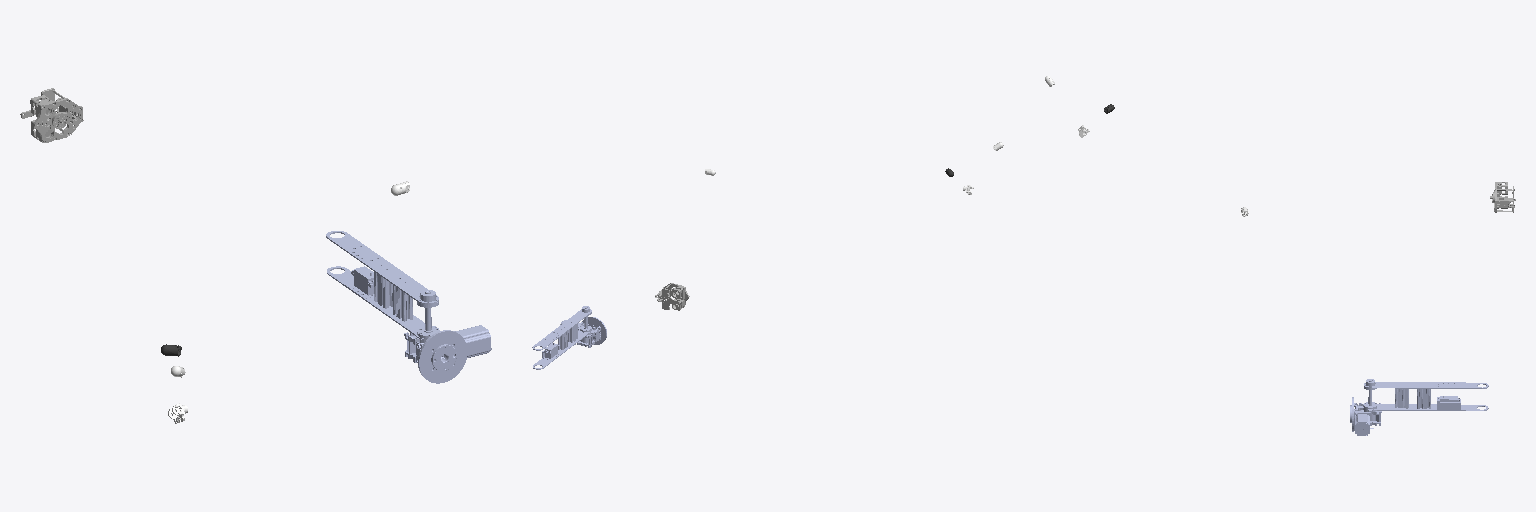
robot.urdf — full_assembly2_urdf:
<?xml version="1.0" encoding="utf-8"?>
<!-- This URDF was automatically created by SolidWorks to URDF Exporter! Originally created by Stephen Brawner (brawner@gmail.com) 
     Commit Version: 1.6.0-4-g7f85cfe  Build Version: 1.6.7995.38578
     For more information, please see http://wiki.ros.org/sw_urdf_exporter -->
<robot
  name="full_assembly2_urdf">
  <link
    name="base_link">
    <inertial>
      <origin
        xyz="-0.000666971271272493 -7.2955508087523E-05 0.113905308565321"
        rpy="0 0 0" />
      <mass
        value="1.2708035851133" />
      <inertia
        ixx="0.00258373325569534"
        ixy="-1.24891825111482E-07"
        ixz="-3.29247641974665E-07"
        iyy="0.00258737827661269"
        iyz="-4.10689595731847E-08"
        izz="0.00432432859906659" />
    </inertial>
    <visual>
      <origin
        xyz="0 0 0"
        rpy="0 0 0" />
      <geometry>
        <mesh
          filename="package://full_assembly2_urdf/meshes/base_link.STL" />
      </geometry>
      <material
        name="">
        <color
          rgba="0.752941176470588 0.752941176470588 0.752941176470588 1" />
      </material>
    </visual>
    <collision>
      <origin
        xyz="0 0 0"
        rpy="0 0 0" />
      <geometry>
        <mesh
          filename="package://full_assembly2_urdf/meshes/base_link.STL" />
      </geometry>
    </collision>
  </link>
  <link
    name="link_1">
    <inertial>
      <origin
        xyz="0.034888834415896 0.00457926103273412 0.0467069176822638"
        rpy="0 0 0" />
      <mass
        value="0.641883793391617" />
      <inertia
        ixx="0.0004655414421358"
        ixy="-2.03341730697784E-05"
        ixz="2.92581409367882E-05"
        iyy="0.000626367305091345"
        iyz="3.98087884992213E-06"
        izz="0.000617296717752839" />
    </inertial>
    <visual>
      <origin
        xyz="0 0 0"
        rpy="0 0 0" />
      <geometry>
        <mesh
          filename="package://full_assembly2_urdf/meshes/link_1.STL" />
      </geometry>
      <material
        name="">
        <color
          rgba="0.792156862745098 0.819607843137255 0.933333333333333 1" />
      </material>
    </visual>
    <collision>
      <origin
        xyz="0 0 0"
        rpy="0 0 0" />
      <geometry>
        <mesh
          filename="package://full_assembly2_urdf/meshes/link_1.STL" />
      </geometry>
    </collision>
  </link>
  <joint
    name="joint_1"
    type="revolute">
    <origin
      xyz="0 0 0.15678"
      rpy="0 0 0" />
    <parent
      link="base_link" />
    <child
      link="link_1" />
    <axis
      xyz="0 0 1" />
    <limit
      lower="-3.142"
      upper="3.142"
      effort="28.35"
      velocity="5.24" />
  </joint>
  <link
    name="link_2">
    <inertial>
      <origin
        xyz="0.00118095219354461 0.00619627354362344 0.173905309750878"
        rpy="0 0 0" />
      <mass
        value="0.394669414155339" />
      <inertia
        ixx="0.00201544139316108"
        ixy="5.89754990715485E-06"
        ixz="-4.81654944922341E-07"
        iyy="0.00197252279377023"
        iyz="-1.04891927473111E-07"
        izz="0.000146840453333142" />
    </inertial>
    <visual>
      <origin
        xyz="0 0 0"
        rpy="0 0 0" />
      <geometry>
        <mesh
          filename="package://full_assembly2_urdf/meshes/link_2.STL" />
      </geometry>
      <material
        name="">
        <color
          rgba="0.792156862745098 0.819607843137255 0.933333333333333 1" />
      </material>
    </visual>
    <collision>
      <origin
        xyz="0 0 0"
        rpy="0 0 0" />
      <geometry>
        <mesh
          filename="package://full_assembly2_urdf/meshes/link_2.STL" />
      </geometry>
    </collision>
  </link>
  <joint
    name="joint_2"
    type="revolute">
    <origin
      xyz="0.000103583713295205 1.30918409286529E-05 0.0737000000000103"
      rpy="0 0 0" />
    <parent
      link="link_1" />
    <child
      link="link_2" />
    <axis
      xyz="-0.125391445630158 0.992107345685324 0" />
    <limit
      lower="-1.57"
      upper="1.57"
      effort="28.35"
      velocity="5.24" />
  </joint>
  <link
    name="link_3">
    <inertial>
      <origin
        xyz="-0.114597786368413 -0.0106809982255397 -0.000135698983013133"
        rpy="0 0 0" />
      <mass
        value="0.259256414102" />
      <inertia
        ixx="8.82055216027771E-05"
        ixy="-0.000147246406086501"
        ixz="1.9128799495539E-08"
        iyy="0.001234836324825"
        iyz="-5.7328438056428E-08"
        izz="0.00124877401988058" />
    </inertial>
    <visual>
      <origin
        xyz="0 0 0"
        rpy="0 0 0" />
      <geometry>
        <mesh
          filename="package://full_assembly2_urdf/meshes/link_3.STL" />
      </geometry>
      <material
        name="">
        <color
          rgba="0.792156862745098 0.819607843137255 0.933333333333333 1" />
      </material>
    </visual>
    <collision>
      <origin
        xyz="0 0 0"
        rpy="0 0 0" />
      <geometry>
        <mesh
          filename="package://full_assembly2_urdf/meshes/link_3.STL" />
      </geometry>
    </collision>
  </link>
  <joint
    name="joint_3"
    type="revolute">
    <origin
      xyz="0 0 0.406399999999993"
      rpy="0 0 0" />
    <parent
      link="link_2" />
    <child
      link="link_3" />
    <axis
      xyz="0.125391445630158 -0.992107345685324 0" />
    <limit
      lower="-1"
      upper="3.14"
      effort="7.85"
      velocity="6.54" />
  </joint>
  <link
    name="link_4">
    <inertial>
      <origin
        xyz="0.000691147483266541 -0.00337681280202291 0.0288646245756418"
        rpy="0 0 0" />
      <mass
        value="0.187315441798361" />
      <inertia
        ixx="0.000131172951960669"
        ixy="3.82564482216406E-06"
        ixz="4.79993052351422E-09"
        iyy="0.000105908438924271"
        iyz="-1.72598376293874E-08"
        izz="0.000133438325685805" />
    </inertial>
    <visual>
      <origin
        xyz="0 0 0"
        rpy="0 0 0" />
      <geometry>
        <mesh
          filename="package://full_assembly2_urdf/meshes/link_4.STL" />
      </geometry>
      <material
        name="">
        <color
          rgba="0.792156862745098 0.819607843137255 0.933333333333333 1" />
      </material>
    </visual>
    <collision>
      <origin
        xyz="0 0 0"
        rpy="0 0 0" />
      <geometry>
        <mesh
          filename="package://full_assembly2_urdf/meshes/link_4.STL" />
      </geometry>
    </collision>
  </link>
  <joint
    name="joint_4"
    type="revolute">
    <origin
      xyz="-0.348413326699186 -0.0397177166403455 0"
      rpy="0 0 0" />
    <parent
      link="link_3" />
    <child
      link="link_4" />
    <axis
      xyz="-0.125391445630158 0.992107345685324 0" />
    <limit
      lower="-3.14"
      upper="0"
      effort="2.45"
      velocity="8.08" />
  </joint>
  <link
    name="link_5">
    <inertial>
      <origin
        xyz="0.000874359843792083 0.00141941965863368 0.0362558121484203"
        rpy="0 0 0" />
      <mass
        value="0.183111513613456" />
      <inertia
        ixx="7.20335904875415E-05"
        ixy="-2.39227064025502E-06"
        ixz="-2.70667515266449E-07"
        iyy="9.2638054510423E-05"
        iyz="-3.10111909846066E-08"
        izz="0.000144655222094407" />
    </inertial>
    <visual>
      <origin
        xyz="0 0 0"
        rpy="0 0 0" />
      <geometry>
        <mesh
          filename="package://full_assembly2_urdf/meshes/link_5.STL" />
      </geometry>
      <material
        name="">
        <color
          rgba="0.752941176470588 0.752941176470588 0.752941176470588 1" />
      </material>
    </visual>
    <collision>
      <origin
        xyz="0 0 0"
        rpy="0 0 0" />
      <geometry>
        <mesh
          filename="package://full_assembly2_urdf/meshes/link_5.STL" />
      </geometry>
    </collision>
  </link>
  <joint
    name="joint_5"
    type="revolute">
    <origin
      xyz="0 0 0.0771975122568782"
      rpy="0 0 0" />
    <parent
      link="link_4" />
    <child
      link="link_5" />
    <axis
      xyz="0 0 -1" />
    <limit
      lower="-3.14"
      upper="3.14"
      effort="2.45"
      velocity="8.08" />
  </joint>
  <link
    name="ee_thumb_prox">
    <inertial>
      <origin
        xyz="-0.000363742372263918 -0.0136623441316669 0.012478635060682"
        rpy="0 0 0" />
      <mass
        value="0.0140616051661292" />
      <inertia
        ixx="2.66037470712265E-06"
        ixy="-4.61561205563586E-08"
        ixz="3.91772433458902E-08"
        iyy="1.37750923910108E-06"
        iyz="8.22644622578878E-07"
        izz="1.61529675721767E-06" />
    </inertial>
    <visual>
      <origin
        xyz="0 0 0"
        rpy="0 0 0" />
      <geometry>
        <mesh
          filename="package://full_assembly2_urdf/meshes/ee_thumb_prox.STL" />
      </geometry>
      <material
        name="">
        <color
          rgba="1 1 1 1" />
      </material>
    </visual>
    <collision>
      <origin
        xyz="0 0 0"
        rpy="0 0 0" />
      <geometry>
        <mesh
          filename="package://full_assembly2_urdf/meshes/ee_thumb_prox.STL" />
      </geometry>
    </collision>
  </link>
  <joint
    name="ee_thumb_prox_joint"
    type="revolute">
    <origin
      xyz="0.0445832051781762 0.00629188493532656 0.0804249999999981"
      rpy="0 0 1.67767623706565" />
    <parent
      link="link_5" />
    <child
      link="ee_thumb_prox" />
    <axis
      xyz="1 0 0" />
    <limit
      lower="0"
      upper="1.57"
      effort="2.45"
      velocity="8.08" />
  </joint>
  <link
    name="ee_thumb_dist">
    <inertial>
      <origin
        xyz="0.000134086297196547 -0.0140583627087864 0.0129641598374541"
        rpy="0 0 0" />
      <mass
        value="0.0116864486254284" />
      <inertia
        ixx="1.11556815353773E-06"
        ixy="5.03779605662188E-09"
        ixz="-2.74459580085022E-09"
        iyy="8.01046236275627E-07"
        iyz="8.74699174215593E-08"
        izz="8.0470227822987E-07" />
    </inertial>
    <visual>
      <origin
        xyz="0 0 0"
        rpy="0 0 0" />
      <geometry>
        <mesh
          filename="package://full_assembly2_urdf/meshes/ee_thumb_dist.STL" />
      </geometry>
      <material
        name="">
        <color
          rgba="0.298039215686275 0.298039215686275 0.298039215686275 1" />
      </material>
    </visual>
    <collision>
      <origin
        xyz="0 0 0"
        rpy="0 0 0" />
      <geometry>
        <mesh
          filename="package://full_assembly2_urdf/meshes/ee_thumb_dist.STL" />
      </geometry>
    </collision>
  </link>
  <joint
    name="ee_thumb_dist_joint"
    type="revolute">
    <origin
      xyz="0 -0.035355339059327 0.0353553390593278"
      rpy="0 0 0" />
    <parent
      link="ee_thumb_prox" />
    <child
      link="ee_thumb_dist" />
    <axis
      xyz="1 0 0" />
    <limit
      lower="0"
      upper="1.57"
      effort="2.45"
      velocity="8.08" />
  </joint>
  <link
    name="ee_finger1_roll">
    <inertial>
      <origin
        xyz="-0.00293929564565008 0.00119368792948021 0.0272243186672857"
        rpy="0 0 0" />
      <mass
        value="0.0130633836142709" />
      <inertia
        ixx="1.31828181335824E-06"
        ixy="2.4019349157918E-07"
        ixz="2.0393991243487E-07"
        iyy="1.66384018577043E-06"
        iyz="-8.1177974456026E-08"
        izz="1.88852300273138E-06" />
    </inertial>
    <visual>
      <origin
        xyz="0 0 0"
        rpy="0 0 0" />
      <geometry>
        <mesh
          filename="package://full_assembly2_urdf/meshes/ee_finger1_roll.STL" />
      </geometry>
      <material
        name="">
        <color
          rgba="1 1 1 1" />
      </material>
    </visual>
    <collision>
      <origin
        xyz="0 0 0"
        rpy="0 0 0" />
      <geometry>
        <mesh
          filename="package://full_assembly2_urdf/meshes/ee_finger1_roll.STL" />
      </geometry>
    </collision>
  </link>
  <joint
    name="ee_finger1_roll_joint"
    type="revolute">
    <origin
      xyz="-0.0220304161455278 -0.0290156985863783 0.039424999999998"
      rpy="0 0 1.67767623706565" />
    <parent
      link="link_5" />
    <child
      link="ee_finger1_roll" />
    <axis
      xyz="0 0 -1" />
    <limit
      lower="-3.14"
      upper="3.14"
      effort="2.45"
      velocity="8.08" />
  </joint>
  <link
    name="ee_finger1_prox">
    <inertial>
      <origin
        xyz="-0.0102315797866676 0.0100635175442056 0.0127330248670721"
        rpy="0 0 0" />
      <mass
        value="0.0145193149160156" />
      <inertia
        ixx="2.04972506692644E-06"
        ixy="6.35126748062643E-07"
        ixz="5.67345621198387E-07"
        iyy="2.00432470838948E-06"
        iyz="-5.98929957280732E-07"
        izz="1.62898222358511E-06" />
    </inertial>
    <visual>
      <origin
        xyz="0 0 0"
        rpy="0 0 0" />
      <geometry>
        <mesh
          filename="package://full_assembly2_urdf/meshes/ee_finger1_prox.STL" />
      </geometry>
      <material
        name="">
        <color
          rgba="1 1 1 1" />
      </material>
    </visual>
    <collision>
      <origin
        xyz="0 0 0"
        rpy="0 0 0" />
      <geometry>
        <mesh
          filename="package://full_assembly2_urdf/meshes/ee_finger1_prox.STL" />
      </geometry>
    </collision>
  </link>
  <joint
    name="ee_finger1_prox_joint"
    type="revolute">
    <origin
      xyz="0 0 0.0430000000000001"
      rpy="0 0 0" />
    <parent
      link="ee_finger1_roll" />
    <child
      link="ee_finger1_prox" />
    <axis
      xyz="-0.693726536855436 -0.720238496654104 0" />
    <limit
      lower="0"
      upper="1.57"
      effort="2.45"
      velocity="8.08" />
  </joint>
  <link
    name="ee_finger1_dist">
    <inertial>
      <origin
        xyz="-0.00999228321684213 0.00919208168543145 0.0118741444533208"
        rpy="0 0 0" />
      <mass
        value="0.0134397344943946" />
      <inertia
        ixx="9.80681041033121E-07"
        ixy="1.32109248616902E-07"
        ixz="6.46167716370451E-08"
        iyy="1.00071725690034E-06"
        iyz="-5.82286420362826E-08"
        izz="8.59942162701177E-07" />
    </inertial>
    <visual>
      <origin
        xyz="0 0 0"
        rpy="0 0 0" />
      <geometry>
        <mesh
          filename="package://full_assembly2_urdf/meshes/ee_finger1_dist.STL" />
      </geometry>
      <material
        name="">
        <color
          rgba="1 1 1 1" />
      </material>
    </visual>
    <collision>
      <origin
        xyz="0 0 0"
        rpy="0 0 0" />
      <geometry>
        <mesh
          filename="package://full_assembly2_urdf/meshes/ee_finger1_dist.STL" />
      </geometry>
    </collision>
  </link>
  <joint
    name="ee_finger1_dist_joint"
    type="revolute">
    <origin
      xyz="-0.0254754976779759 0.0245377452898056 0.0353397520386329"
      rpy="0 0 0" />
    <parent
      link="ee_finger1_prox" />
    <child
      link="ee_finger1_dist" />
    <axis
      xyz="-0.693726536855436 -0.720238496654104 0" />
    <limit
      lower="0"
      upper="1.57"
      effort="2.45"
      velocity="8.08" />
  </joint>
  <link
    name="ee_finger2_roll">
    <inertial>
      <origin
        xyz="0.00292762286856931 0.00122188350719937 0.02722431487717"
        rpy="0 0 0" />
      <mass
        value="0.0130633776120231" />
      <inertia
        ixx="1.32293231624601E-06"
        ixy="-2.43479410051369E-07"
        ixz="-2.0314527001449E-07"
        iyy="1.65919292374792E-06"
        iyz="-8.31309451140246E-08"
        izz="1.88852919686052E-06" />
    </inertial>
    <visual>
      <origin
        xyz="0 0 0"
        rpy="0 0 0" />
      <geometry>
        <mesh
          filename="package://full_assembly2_urdf/meshes/ee_finger2_roll.STL" />
      </geometry>
      <material
        name="">
        <color
          rgba="1 1 1 1" />
      </material>
    </visual>
    <collision>
      <origin
        xyz="0 0 0"
        rpy="0 0 0" />
      <geometry>
        <mesh
          filename="package://full_assembly2_urdf/meshes/ee_finger2_roll.STL" />
      </geometry>
    </collision>
  </link>
  <joint
    name="ee_finger2_roll_joint"
    type="revolute">
    <origin
      xyz="-0.0280043023470612 0.0266647529531982 0.0394249999999982"
      rpy="0 0 1.67767623706565" />
    <parent
      link="link_5" />
    <child
      link="ee_finger2_roll" />
    <axis
      xyz="0 0 -1" />
    <limit
      lower="-3.14"
      upper="3.14"
      effort="2.45"
      velocity="8.08" />
  </joint>
  <link
    name="ee_finger2_prox">
    <inertial>
      <origin
        xyz="0.0100368832974512 0.0100659773185173 0.0128854247188837"
        rpy="0 0 0" />
      <mass
        value="0.014519343110467" />
      <inertia
        ixx="2.07049411289826E-06"
        ixy="-6.25766007247275E-07"
        ixz="-5.62879437380842E-07"
        iyy="2.00112982945989E-06"
        iyz="-6.06361403679365E-07"
        izz="1.61138625748389E-06" />
    </inertial>
    <visual>
      <origin
        xyz="0 0 0"
        rpy="0 0 0" />
      <geometry>
        <mesh
          filename="package://full_assembly2_urdf/meshes/ee_finger2_prox.STL" />
      </geometry>
      <material
        name="">
        <color
          rgba="1 1 1 1" />
      </material>
    </visual>
    <collision>
      <origin
        xyz="0 0 0"
        rpy="0 0 0" />
      <geometry>
        <mesh
          filename="package://full_assembly2_urdf/meshes/ee_finger2_prox.STL" />
      </geometry>
    </collision>
  </link>
  <joint
    name="ee_finger2_prox_joint"
    type="revolute">
    <origin
      xyz="-4.86118565775811E-05 4.95067392380366E-05 0.0429999999999999"
      rpy="0 0 0" />
    <parent
      link="ee_finger2_roll" />
    <child
      link="ee_finger2_prox" />
    <axis
      xyz="0.700628532140014 -0.713526215321714 0" />
    <limit
      lower="0"
      upper="1.57"
      effort="2.45"
      velocity="8.08" />
  </joint>
  <link
    name="ee_finger2_dist">
    <inertial>
      <origin
        xyz="0.00975175888202664 0.0091390481308663 0.0121124532918457"
        rpy="0 0 0" />
      <mass
        value="0.01344001329834" />
      <inertia
        ixx="9.84852894018348E-07"
        ixy="-1.30734532159436E-07"
        ixz="-6.40996048220727E-08"
        iyy="9.99637917362816E-07"
        iyz="-5.87691443876127E-08"
        izz="8.56867388470161E-07" />
    </inertial>
    <visual>
      <origin
        xyz="0 0 0"
        rpy="0 0 0" />
      <geometry>
        <mesh
          filename="package://full_assembly2_urdf/meshes/ee_finger2_dist.STL" />
      </geometry>
      <material
        name="">
        <color
          rgba="1 1 1 1" />
      </material>
    </visual>
    <collision>
      <origin
        xyz="0 0 0"
        rpy="0 0 0" />
      <geometry>
        <mesh
          filename="package://full_assembly2_urdf/meshes/ee_finger2_dist.STL" />
      </geometry>
    </collision>
  </link>
  <joint
    name="ee_finger2_dist_joint"
    type="revolute">
    <origin
      xyz="0.0249677805106804 0.0245164634940634 0.0357148842097346"
      rpy="0 0 0" />
    <parent
      link="ee_finger2_prox" />
    <child
      link="ee_finger2_dist" />
    <axis
      xyz="0.700628532140015 -0.713526215321714 0" />
    <limit
      lower="0"
      upper="1.57"
      effort="2.45"
      velocity="8.08" />
  </joint>
</robot>

--- Render facts (derived) ---
Views: 3 orthographic renders of the robot side by side, from view 1: azimuth 30°, elevation 25°; view 2: azimuth 150°, elevation 25°; view 3: azimuth 270°, elevation 25°.
Model full_assembly2_urdf with 14 links and 13 joints (13 revolute), rooted at base_link, posed every joint at zero.
Links seen in each view (by area): view 1: link_2, link_1, link_5; view 2: link_2, link_5, link_1; view 3: link_2, link_1.
Boxes of the visible links, x1=… form: link_2: x1=326, y1=231, x2=439, y2=338; link_1: x1=404, y1=325, x2=491, y2=383; link_5: x1=20, y1=88, x2=83, y2=142; link_2: x1=532, y1=306, x2=591, y2=369; link_5: x1=655, y1=283, x2=689, y2=310; link_1: x1=560, y1=317, x2=606, y2=347; link_2: x1=1363, y1=379, x2=1488, y2=410; link_1: x1=1350, y1=397, x2=1381, y2=435.
Bounding box of the posed robot: 1.48 × 1.72 × 0.8015 m (x, y, z).
Meshes: 14 distinct files referenced, 7 mesh visuals loaded (7 binary STL); not drawn: 7 (reference not matched to a file when rendering).
